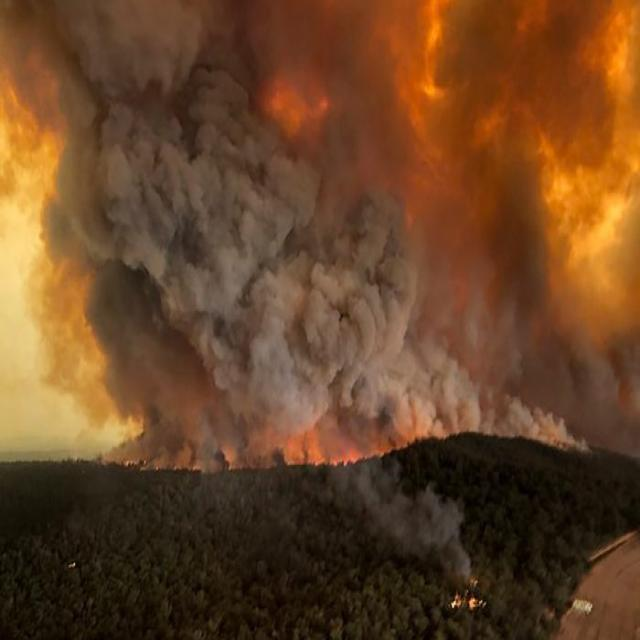Fire: (469, 597, 486, 608), (449, 594, 461, 608)
Smoke: (51, 0, 198, 95), (333, 459, 443, 552), (245, 309, 308, 437), (190, 64, 276, 150), (176, 314, 242, 418), (56, 68, 102, 202), (497, 394, 590, 451), (171, 249, 247, 314), (154, 138, 208, 228), (265, 148, 321, 224), (249, 249, 310, 310), (100, 413, 168, 463), (99, 150, 143, 223), (104, 100, 180, 142), (66, 203, 111, 264), (210, 152, 238, 248), (310, 341, 340, 430), (120, 227, 170, 276), (385, 195, 413, 282), (310, 250, 356, 300), (355, 198, 381, 280), (342, 288, 370, 356), (382, 379, 412, 436), (382, 282, 402, 361), (238, 201, 272, 247), (302, 284, 330, 339), (232, 435, 272, 472), (196, 409, 218, 476), (339, 358, 367, 408), (416, 332, 448, 374), (448, 538, 474, 580), (442, 378, 459, 429), (413, 398, 433, 439), (462, 394, 481, 436), (444, 498, 462, 539), (480, 391, 494, 437), (172, 436, 192, 464), (435, 422, 448, 436)
